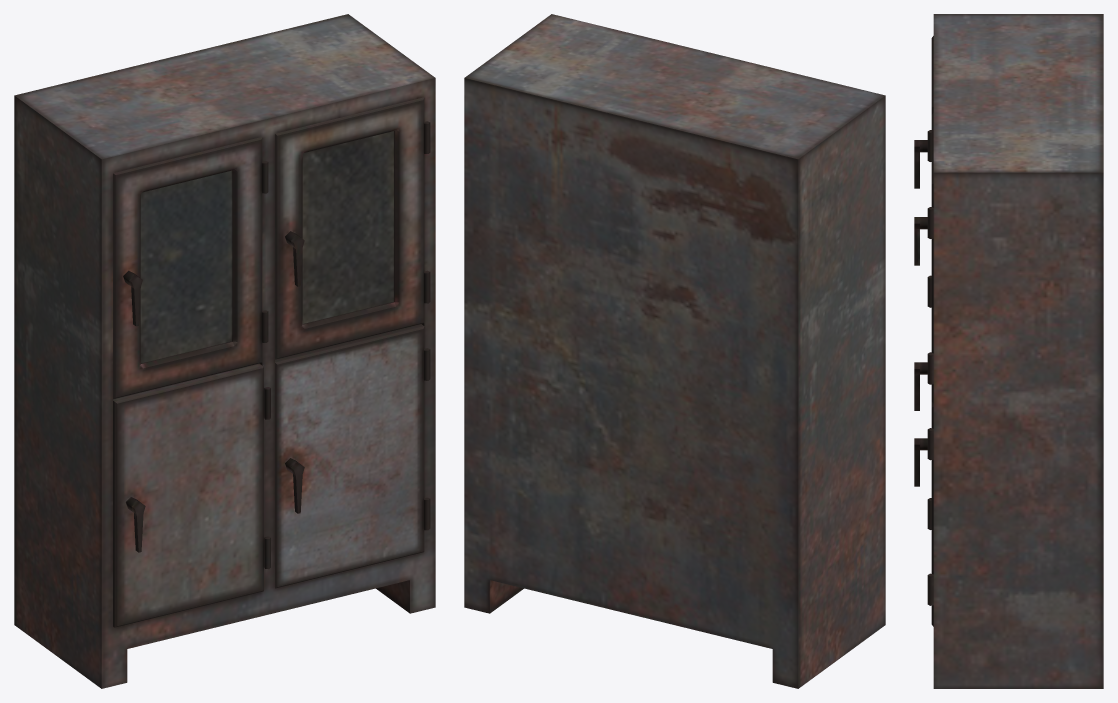
Rendered from MetalCabinet_S4DoorsGlass.FBX.
3 views of the same model, side by side, from view 1: azimuth 30°, elevation 25°; view 2: azimuth 150°, elevation 25°; view 3: azimuth 270°, elevation 25° (orthographic). The views are drawn at different scales.
Visible parts, largest first — view 1: MetalCabinet_S4DoorsGlass, L_B_Door, R_B_Door, L_T_GlassDoor, R_T_GlassDoor; view 2: MetalCabinet_S4DoorsGlass; view 3: MetalCabinet_S4DoorsGlass, R_T_GlassDoor, R_B_Door, L_T_GlassDoor, L_B_Door.
Part boxes in pixels (box(x1,y1,x2,y2)): MetalCabinet_S4DoorsGlass: box(14, 14, 435, 688); L_B_Door: box(113, 363, 270, 627); R_B_Door: box(275, 324, 430, 588); L_T_GlassDoor: box(113, 137, 268, 398); R_T_GlassDoor: box(275, 97, 430, 359); MetalCabinet_S4DoorsGlass: box(464, 14, 885, 688); MetalCabinet_S4DoorsGlass: box(933, 14, 1103, 688); R_T_GlassDoor: box(914, 113, 933, 403); R_B_Door: box(914, 402, 933, 626); L_T_GlassDoor: box(914, 36, 933, 307); L_B_Door: box(914, 352, 931, 529).
Bounding box in the file's own units: 120 × 182 × 60.6.
